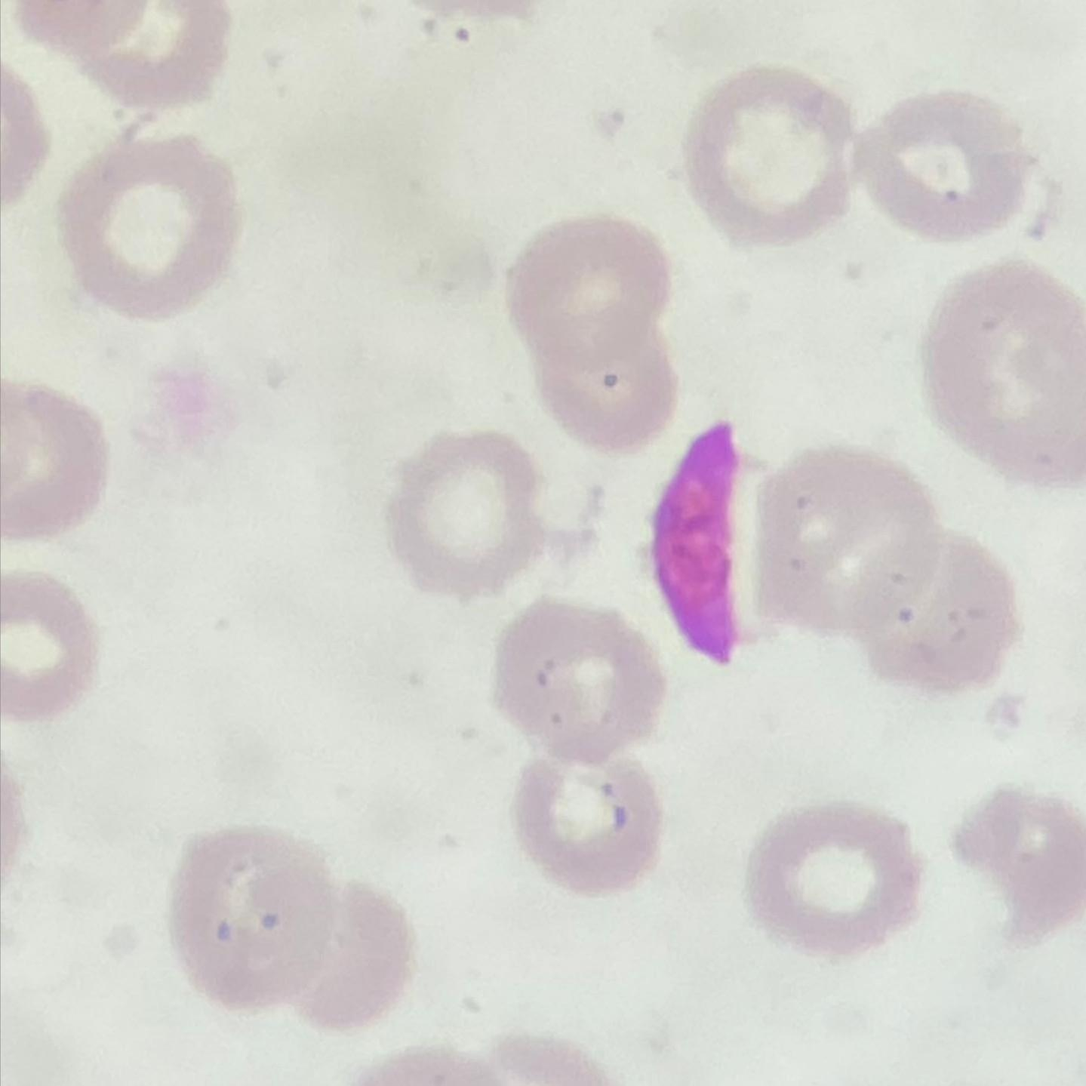Infected: (649, 421, 760, 665)
Uninfected: (749, 444, 944, 638), (924, 265, 1086, 493), (51, 134, 236, 311), (683, 59, 857, 247), (170, 836, 351, 1006), (858, 82, 1036, 246), (491, 610, 669, 762), (857, 527, 1018, 689), (751, 800, 923, 949), (508, 217, 674, 368), (389, 431, 538, 597), (513, 753, 666, 897), (264, 889, 413, 1033), (526, 317, 672, 456), (0, 391, 109, 546), (0, 561, 96, 719)
